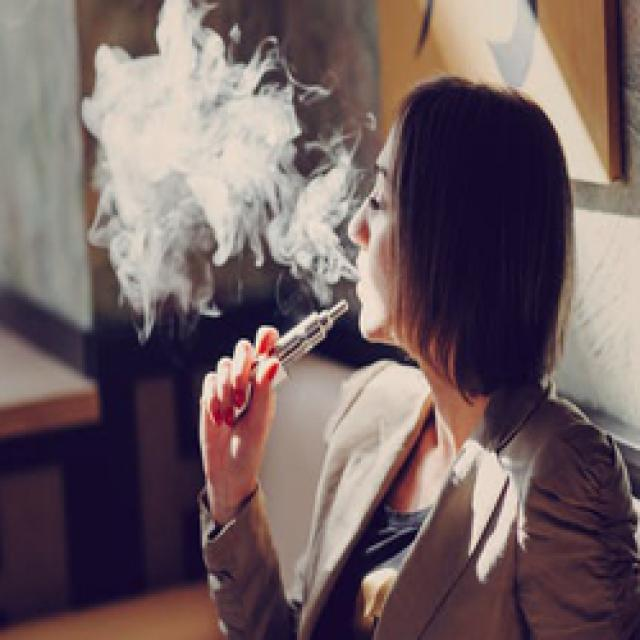Smooking: (248, 290, 357, 366)
